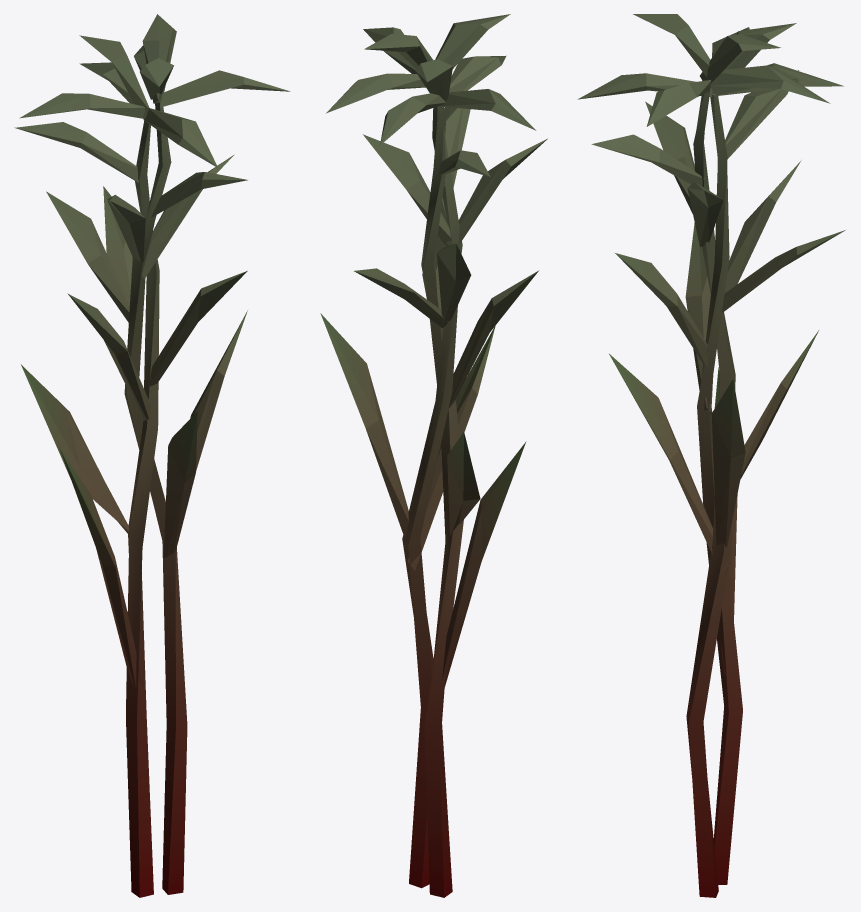
The model's file is synty-plant-05.gltf.
The picture shows the model from 3 angles, left to right: view 1: azimuth 30°, elevation 25°; view 2: azimuth 150°, elevation 25°; view 3: azimuth 270°, elevation 25°; orthographic projection.
Visible parts, largest first — view 1: SM_Plant_05; view 2: SM_Plant_05; view 3: SM_Plant_05.
Boxes of the visible parts, <box> form: SM_Plant_05: <box>14,14,290,897</box>; SM_Plant_05: <box>320,14,547,897</box>; SM_Plant_05: <box>577,14,845,897</box>.
Bounding box in the file's own units: 0.8291 × 3.02 × 0.8607.
Materials: 1 (1 with a texture image).
